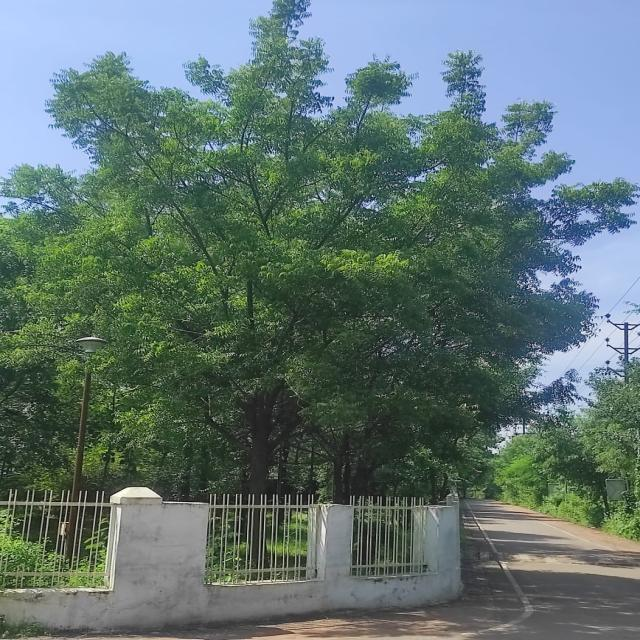Neem Tree: (18, 19, 569, 460)
